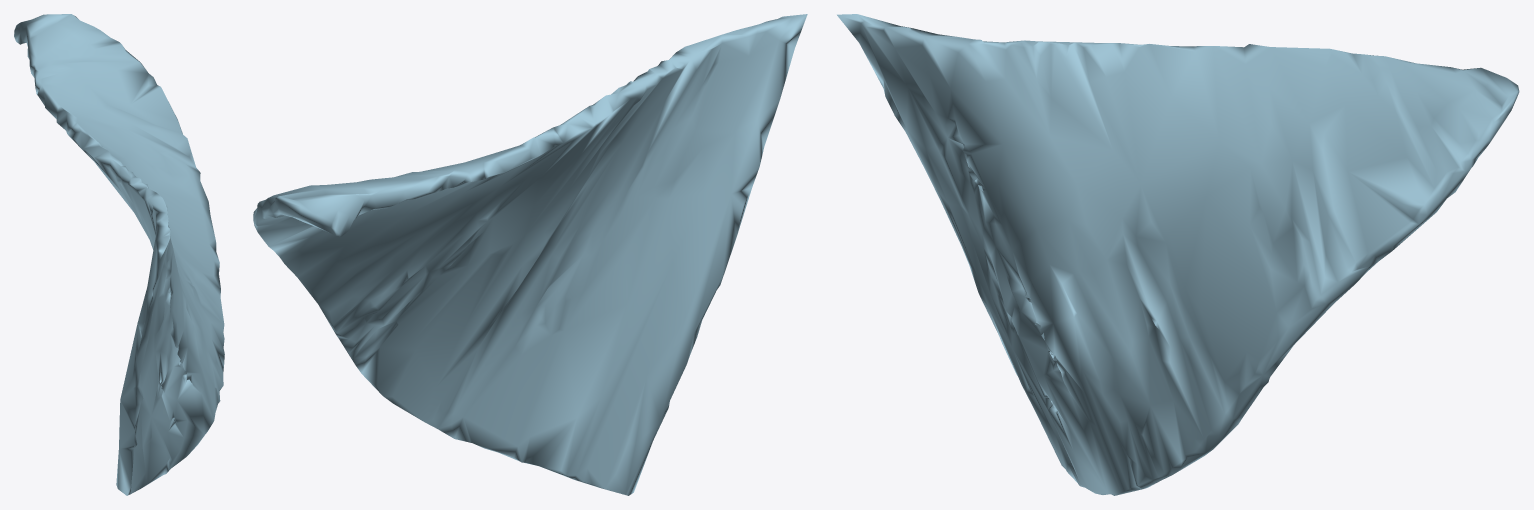
Rendered from articulacoes-cricopharyngeal-ligament-l.glb.
3 views of the same model, side by side, from view 1: azimuth 30°, elevation 25°; view 2: azimuth 150°, elevation 25°; view 3: azimuth 270°, elevation 25° (orthographic). The views are drawn at different scales.
Parts seen in each view (by area): view 1: Cricopharyngeal ligament.l; view 2: Cricopharyngeal ligament.l; view 3: Cricopharyngeal ligament.l.
Boxes of the visible parts, left/top/right/bottom form: Cricopharyngeal ligament.l: left=14, top=14, right=224, bottom=495; Cricopharyngeal ligament.l: left=253, top=14, right=807, bottom=495; Cricopharyngeal ligament.l: left=837, top=14, right=1519, bottom=495.
Bounding box in the file's own units: 0.00869 × 0.0128 × 0.0181.
